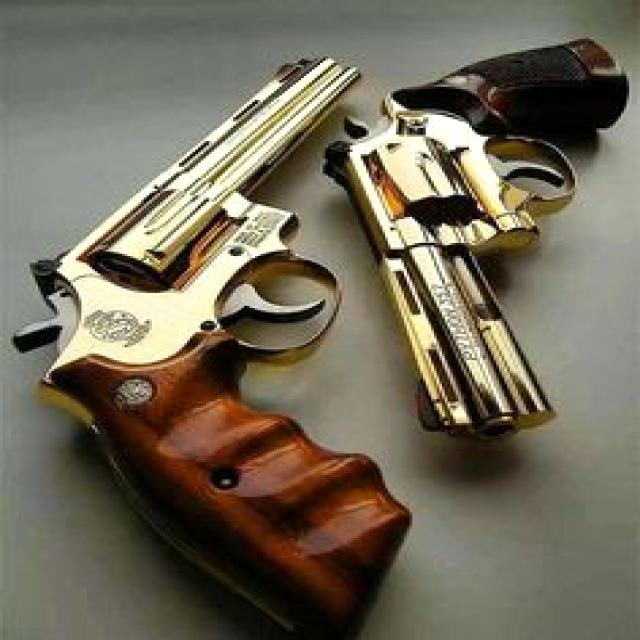revolver: (7, 10, 414, 640)
